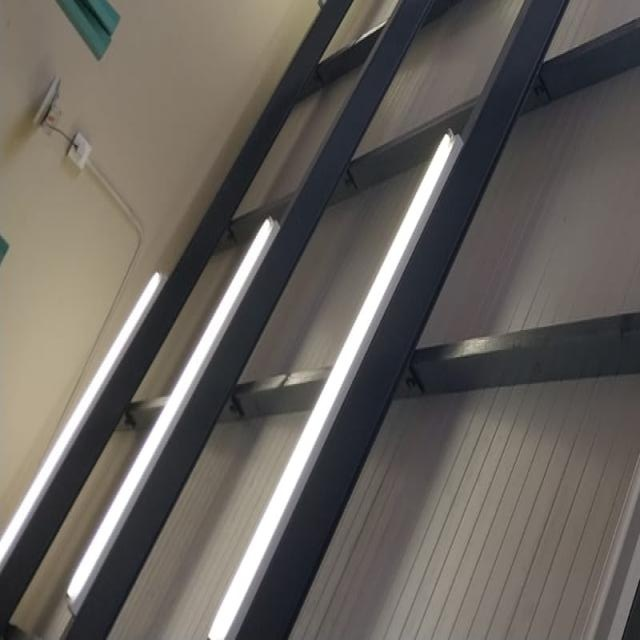fluorescent tube: (186, 92, 490, 640), (50, 178, 298, 622), (0, 239, 174, 597), (556, 0, 640, 640), (267, 0, 436, 38)
